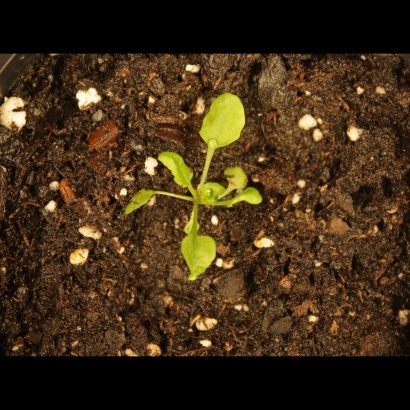leaf: (196, 87, 247, 153), (170, 226, 221, 290), (155, 147, 196, 192), (118, 185, 162, 220), (218, 159, 252, 190), (194, 180, 227, 208), (241, 184, 264, 210), (184, 214, 207, 237)
